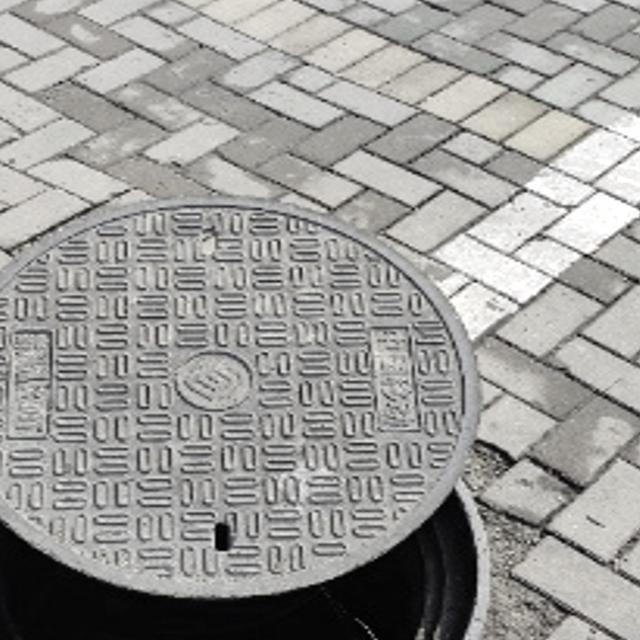uncovered: (0, 179, 520, 640)
